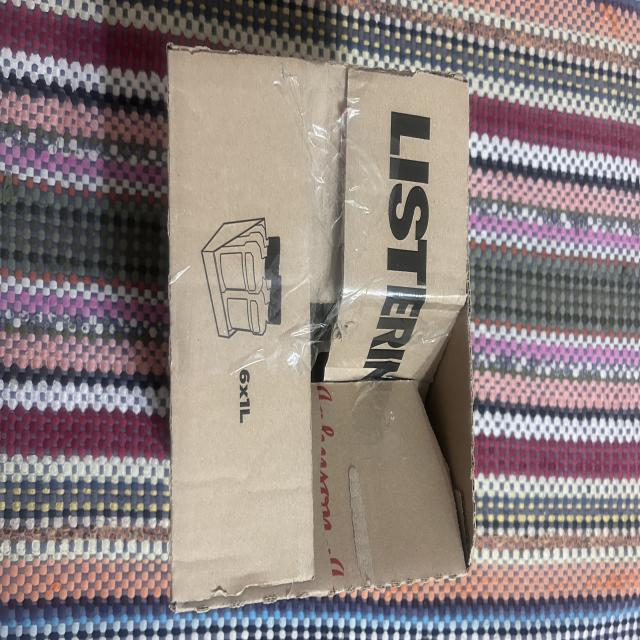damaged: (164, 41, 482, 614), (302, 285, 476, 588)
